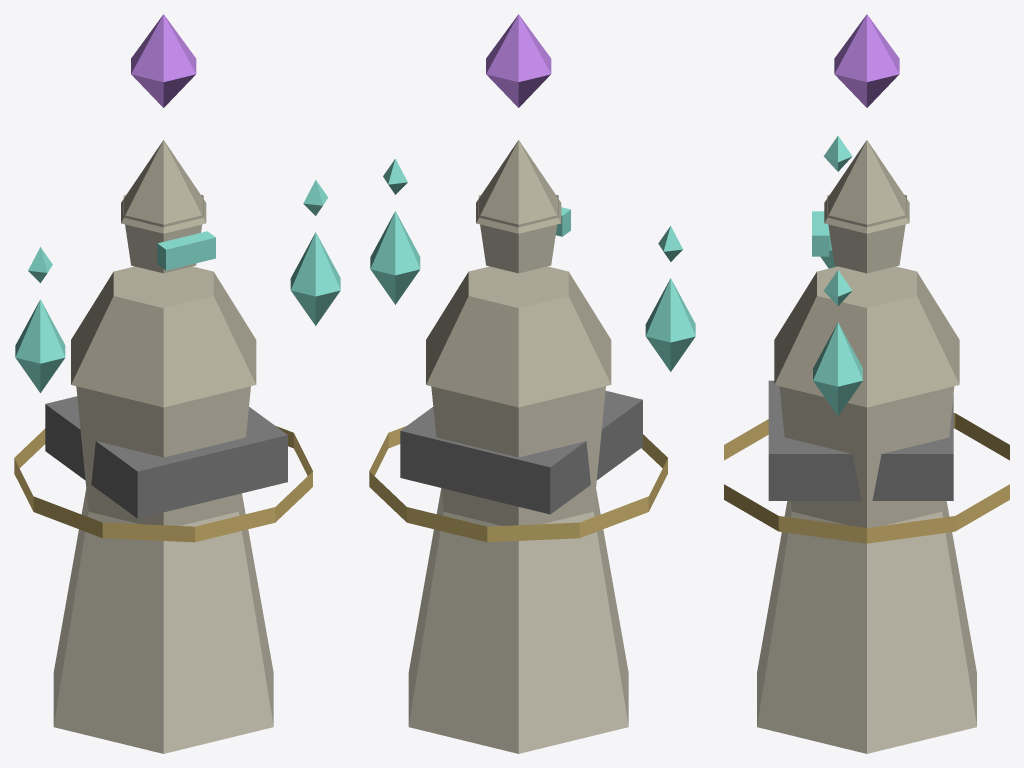
The model's file is evoker.obj.
3 views of the same model, side by side, from view 1: azimuth 30°, elevation 25°; view 2: azimuth 150°, elevation 25°; view 3: azimuth 270°, elevation 25° (orthographic).
Visible parts, largest first — view 1: evoker; view 2: evoker; view 3: evoker.
Boxes of the visible parts, x1,y1,x2,y2 form: evoker: [14, 14, 340, 753]; evoker: [369, 14, 695, 753]; evoker: [724, 14, 1009, 753].
Bounding box in the file's own units: 1.3 × 2.72 × 0.9891.
